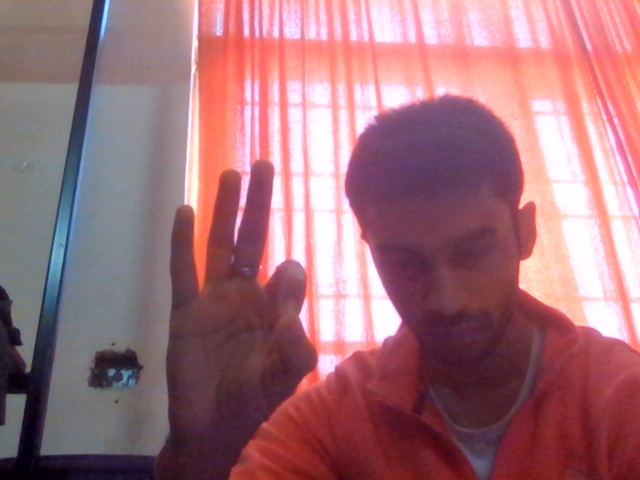F: (135, 145, 336, 468)
